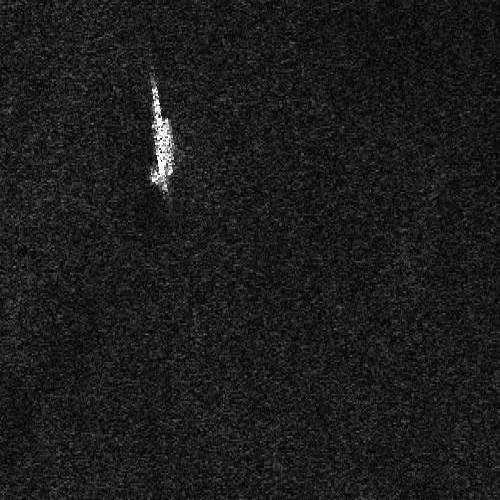ship: (149, 77, 175, 191)
